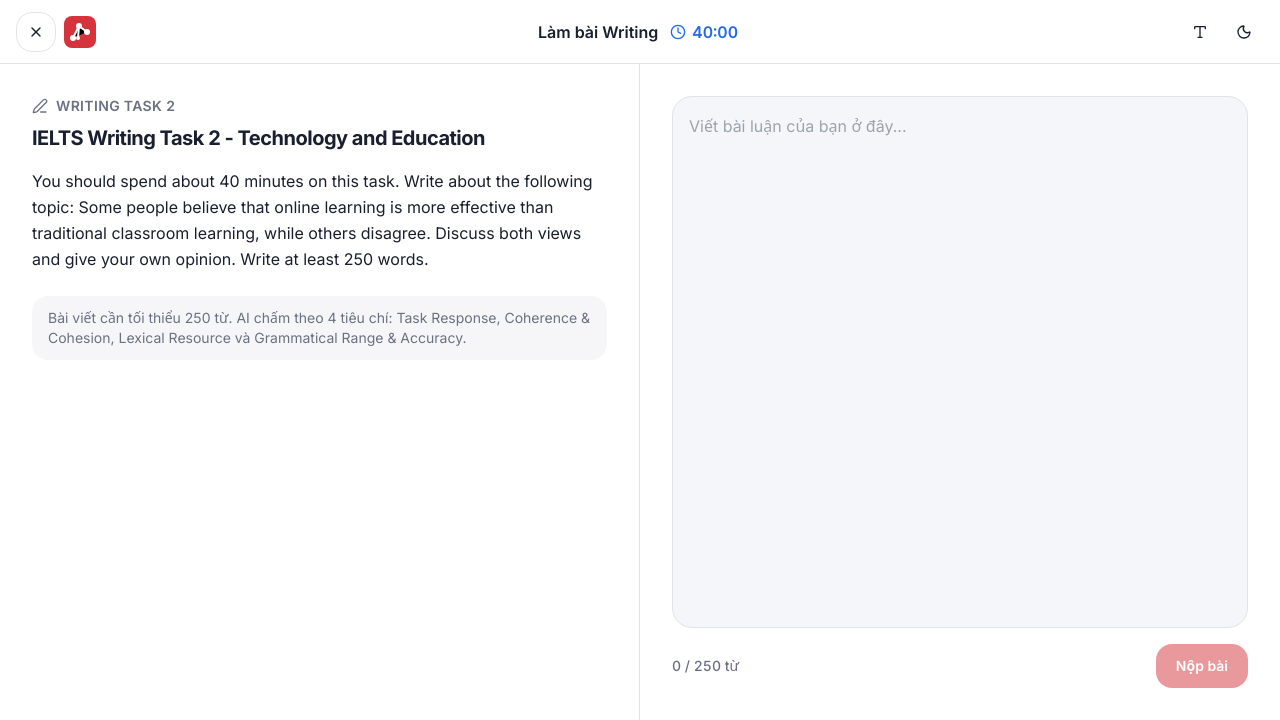
Scenario: WritingRunner › shows the prompt, the minimum and a live word count
Expected: the text "online learning is more effective" is shown, [32,171,593,269]
Expected: the text "0 / 250 từ" is shown, [672,656,739,676]
In the text box named "Bài viết của bạn": (960, 362) [672,96,1248,628], type "one two three"
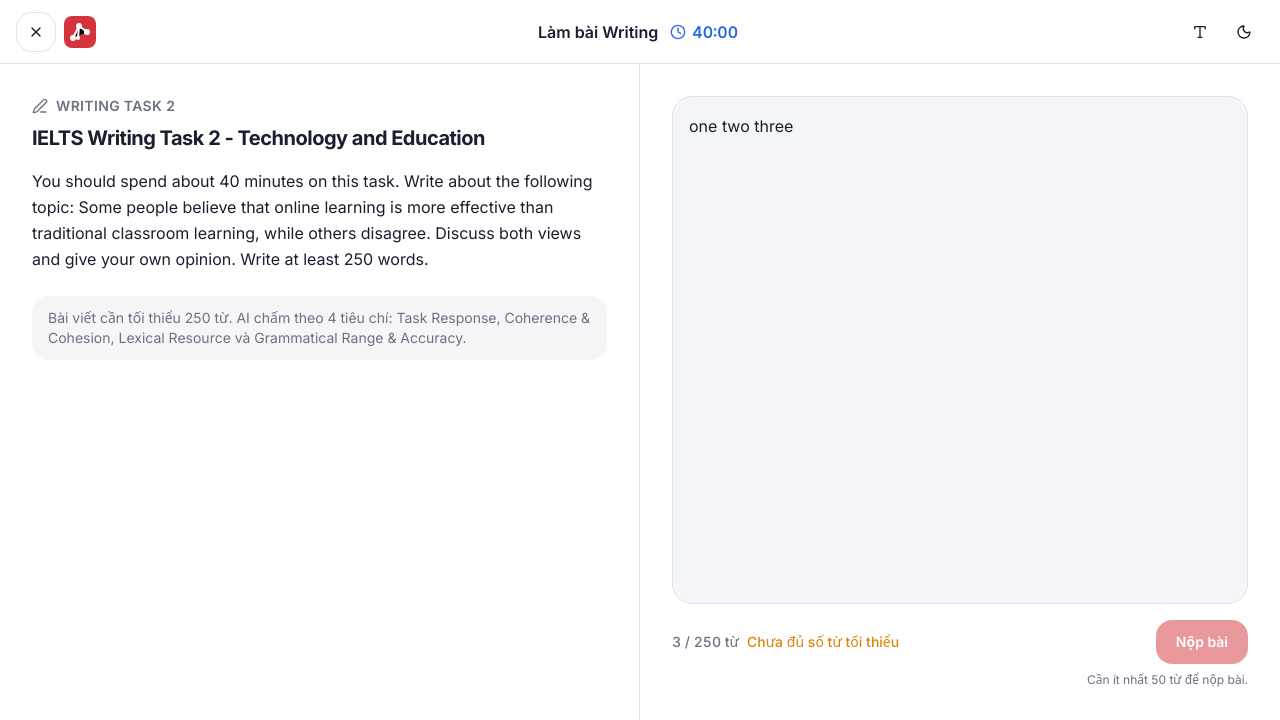
Expected: the text "3 / 250 từ" is shown, [672,632,899,652]
Expected: the text "Chưa đủ số từ tối thiểu" is shown, [747,633,899,650]
